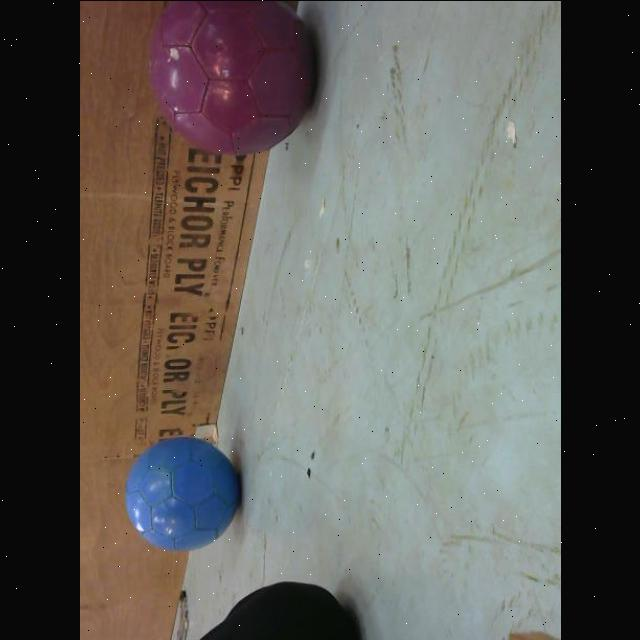B: (125, 435, 237, 553)
P: (146, 0, 314, 156)
